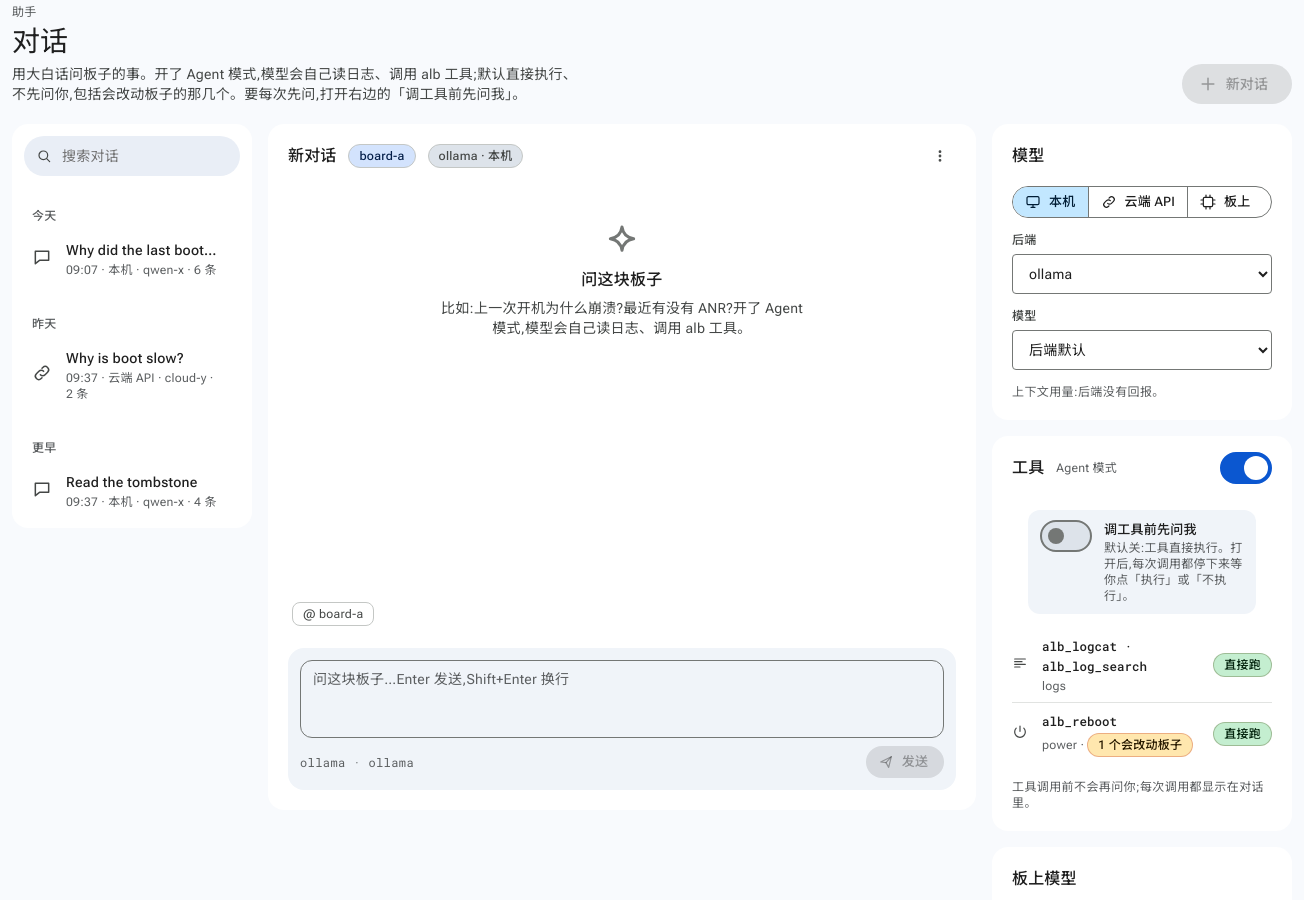
Test: Chat page › search narrows the list
The image size is (1304, 900).
Check: the button "Why is boot slow?" is shown, box [66, 348, 218, 368]
Type "tombstone" into the field labelled "搜索对话". click: (144, 156)
box: [60, 145, 228, 167]
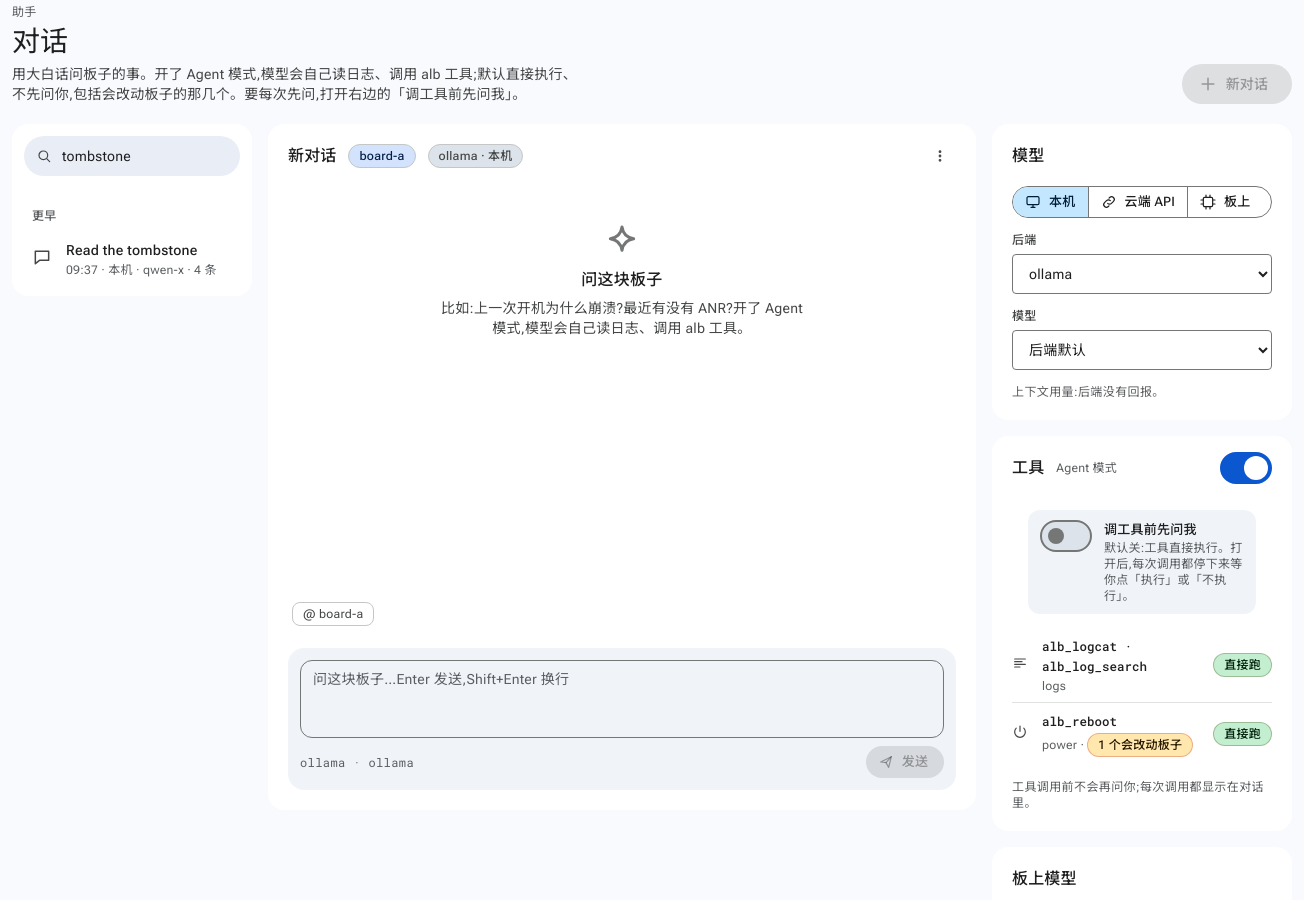
Check: the button "Read the tombstone" is shown, box [66, 240, 218, 260]
Check: the button "Why is boot slow?" is gone
Replace the text in the field named "搜索对话" with "zzz". click: (144, 156)
box: [60, 145, 228, 167]
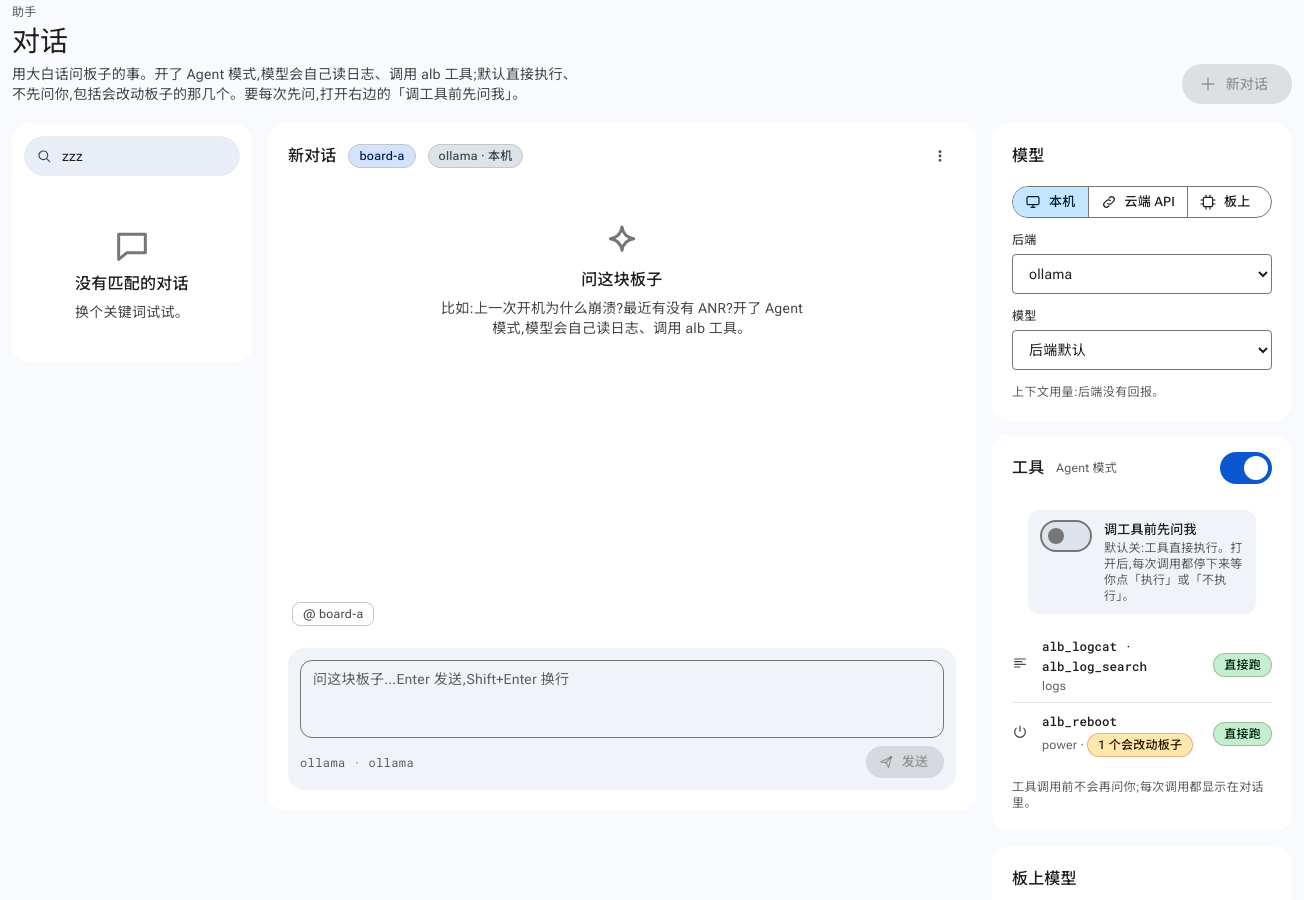
Check: the heading "没有匹配的对话" is shown, box [75, 274, 189, 294]
